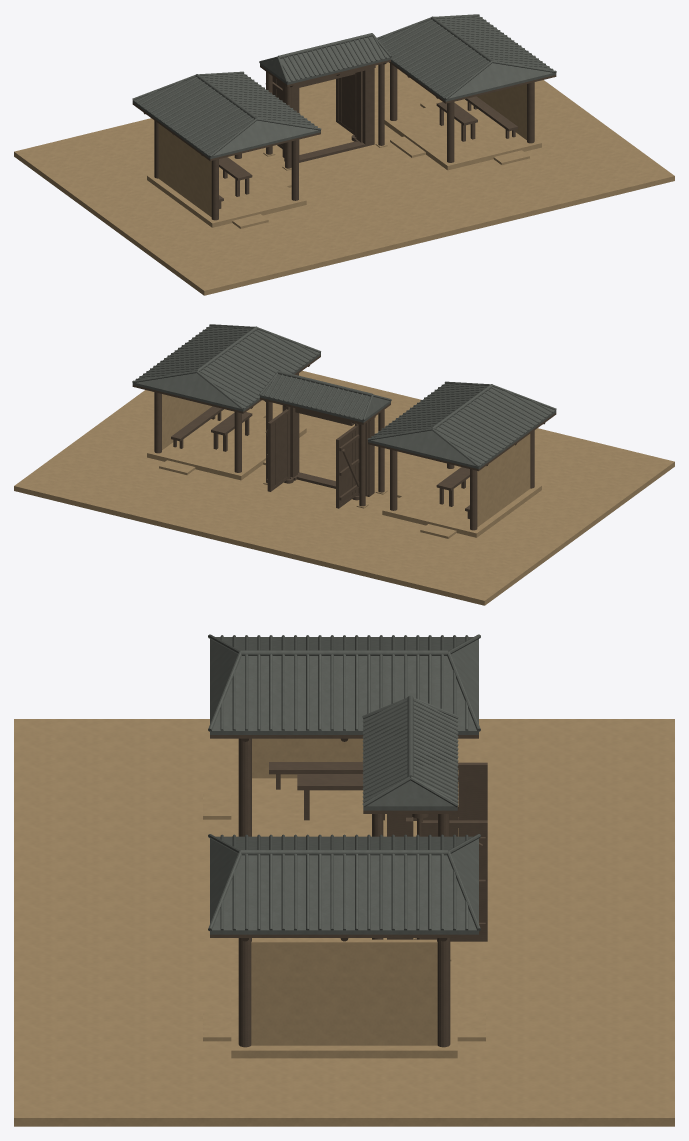
Rendered from guard-slice-open-LOD0.glb.
The picture shows the model from 3 angles, top to bottom: view 1: azimuth 30°, elevation 25°; view 2: azimuth 150°, elevation 25°; view 3: azimuth 270°, elevation 25°; orthographic projection. The views are drawn at different scales.
Visible parts, largest first — view 1: guard-slice-ground-earth, guard-slice-west-tile, guard-slice-east-tile, guard-slice-west-earth, guard-slice-east-earth, guard-slice-portal-timber, guard-slice-portal-tile, guard-slice-east-timber, guard-slice-west-timber, guard-slice-leaf_R-timber; view 2: guard-slice-ground-earth, guard-slice-west-tile, guard-slice-east-tile, guard-slice-west-earth, guard-slice-east-earth, guard-slice-portal-timber, guard-slice-portal-tile, guard-slice-east-timber, guard-slice-west-timber, guard-slice-leaf_R-timber, guard-slice-leaf_L-timber; view 3: guard-slice-ground-earth, guard-slice-east-tile, guard-slice-east-earth, guard-slice-west-tile, guard-slice-west-earth, guard-slice-portal-tile, guard-slice-west-timber, guard-slice-east-timber, guard-slice-leaf_R-timber, guard-slice-leaf_L-timber, guard-slice-portal-timber.
Part boxes in pixels (x1=…): guard-slice-ground-earth: x1=14, y1=62, x2=674, y2=295; guard-slice-west-tile: x1=132, y1=71, x2=321, y2=159; guard-slice-east-tile: x1=377, y1=14, x2=556, y2=101; guard-slice-west-earth: x1=147, y1=124, x2=306, y2=228; guard-slice-east-earth: x1=384, y1=84, x2=541, y2=170; guard-slice-portal-timber: x1=260, y1=60, x2=390, y2=168; guard-slice-portal-tile: x1=259, y1=33, x2=391, y2=84; guard-slice-east-timber: x1=389, y1=62, x2=556, y2=162; guard-slice-west-timber: x1=132, y1=103, x2=320, y2=220; guard-slice-leaf_R-timber: x1=336, y1=73, x2=356, y2=137; guard-slice-ground-earth: x1=14, y1=370, x2=674, y2=605; guard-slice-west-tile: x1=367, y1=381, x2=556, y2=469; guard-slice-east-tile: x1=132, y1=324, x2=320, y2=411; guard-slice-west-earth: x1=382, y1=434, x2=541, y2=538; guard-slice-east-earth: x1=147, y1=394, x2=306, y2=480; guard-slice-portal-timber: x1=260, y1=397, x2=390, y2=506; guard-slice-portal-tile: x1=259, y1=370, x2=391, y2=422; guard-slice-east-timber: x1=132, y1=355, x2=320, y2=472; guard-slice-west-timber: x1=368, y1=413, x2=556, y2=530; guard-slice-leaf_R-timber: x1=265, y1=407, x2=290, y2=491; guard-slice-leaf_L-timber: x1=336, y1=423, x2=359, y2=508; guard-slice-ground-earth: x1=14, y1=719, x2=674, y2=1126; guard-slice-east-tile: x1=208, y1=834, x2=480, y2=934; guard-slice-east-earth: x1=203, y1=939, x2=485, y2=1058; guard-slice-west-tile: x1=208, y1=634, x2=480, y2=734; guard-slice-west-earth: x1=203, y1=738, x2=458, y2=836; guard-slice-portal-tile: x1=362, y1=695, x2=458, y2=810; guard-slice-west-timber: x1=210, y1=735, x2=478, y2=836; guard-slice-east-timber: x1=210, y1=934, x2=478, y2=1047; guard-slice-leaf_R-timber: x1=417, y1=818, x2=487, y2=941; guard-slice-leaf_L-timber: x1=423, y1=762, x2=487, y2=820; guard-slice-portal-timber: x1=363, y1=810, x2=457, y2=939.
Bounding box in the file's own units: 20 × 4.48 × 14.
3 materials, 3 textured.
